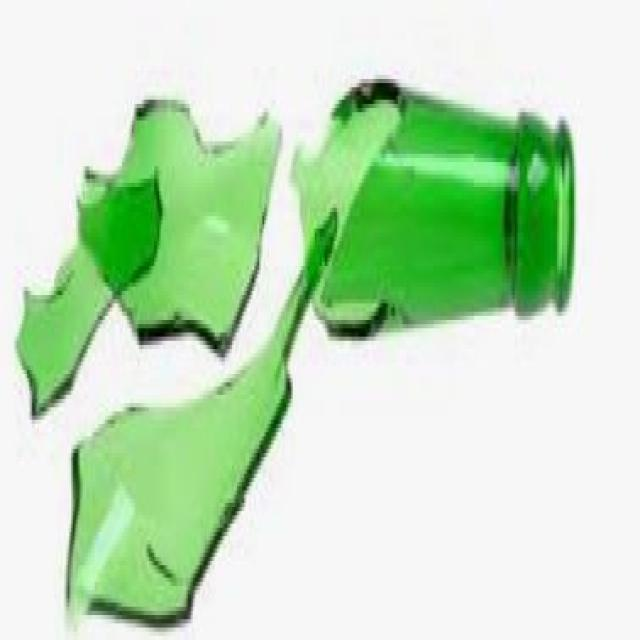electronic: (291, 69, 577, 375)
